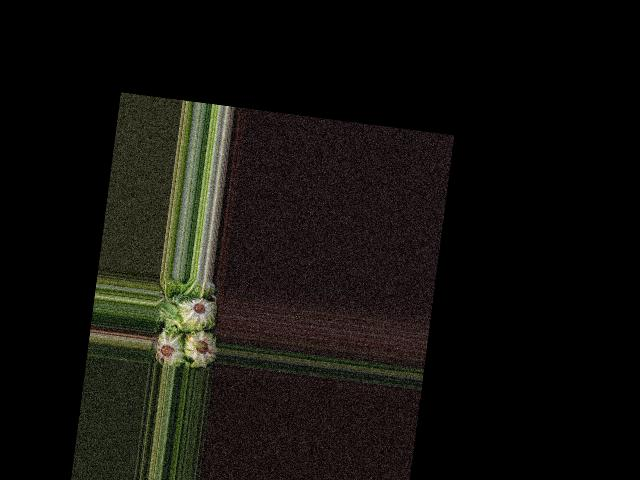lettuce: (153, 329, 187, 368)
